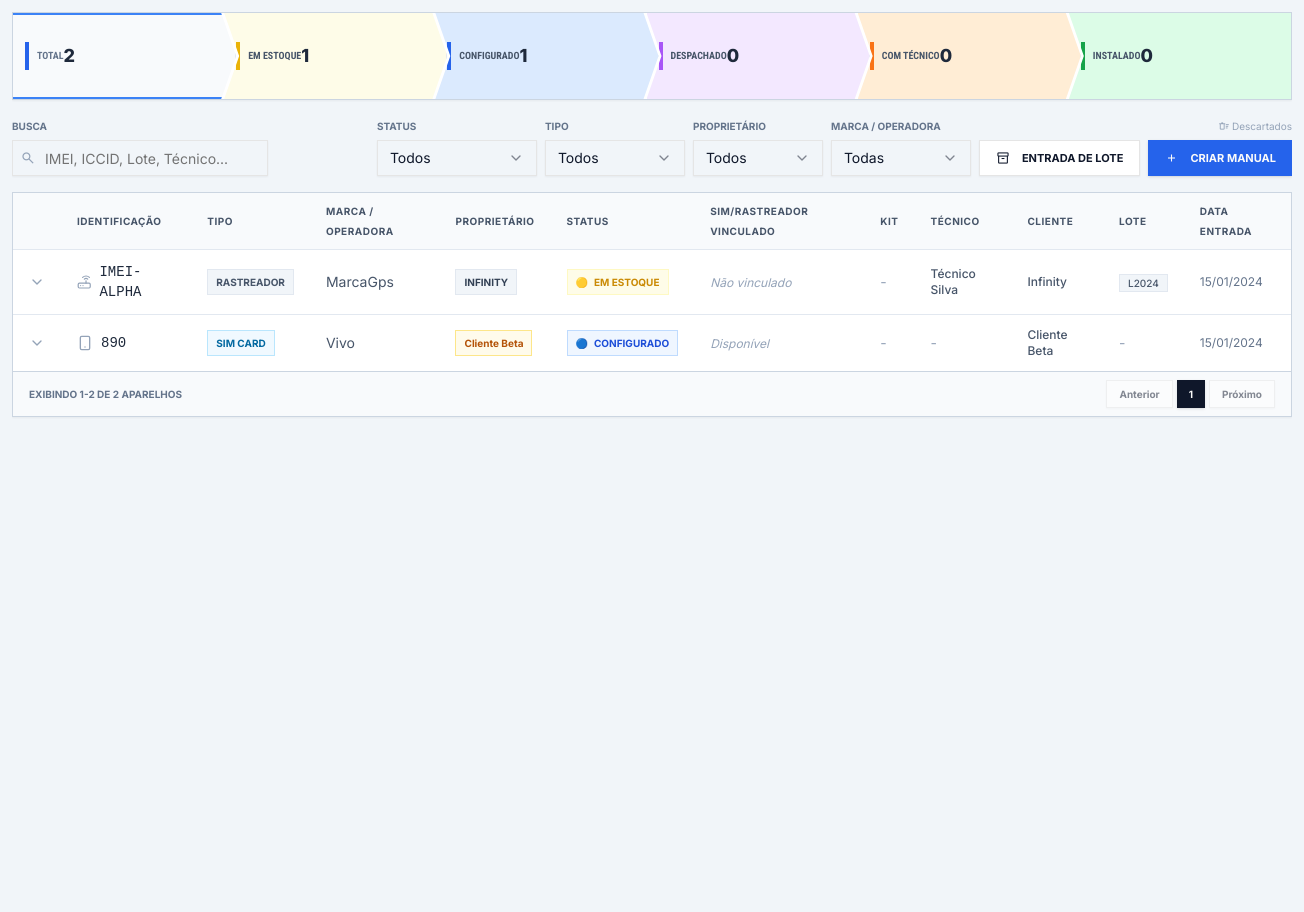
Scenario: AparelhosPage (fluxo integrado) › carrega pipeline, busca filtra por técnico e expande linha
Check: the element with test id "aparelhos-status-pipeline" is shown, box [12,12,1292,100]
Check: the element with test id "aparelhos-toolbar" is shown, box [12,116,1292,176]
Type "Silva" into the field with test id "aparelhos-busca-input" at {"x": 140, "y": 158}, box [12,140,268,176]
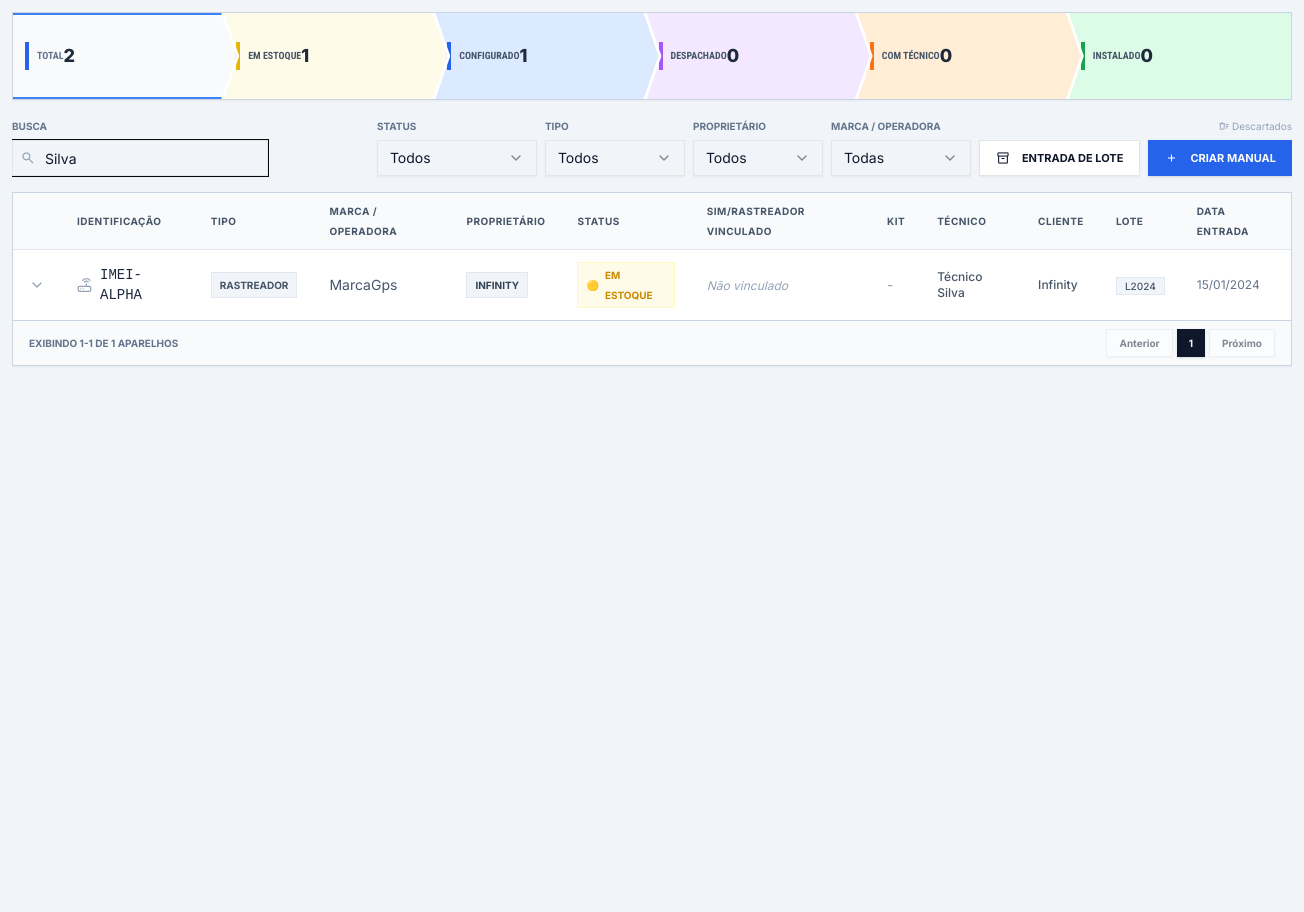
Check: the text "IMEI-ALPHA" is shown, box [100,267,142,303]
Check: the text "890" is gone
Click the row with test id "aparelho-row-1" at {"x": 652, "y": 285}, box [13,250,1291,320]
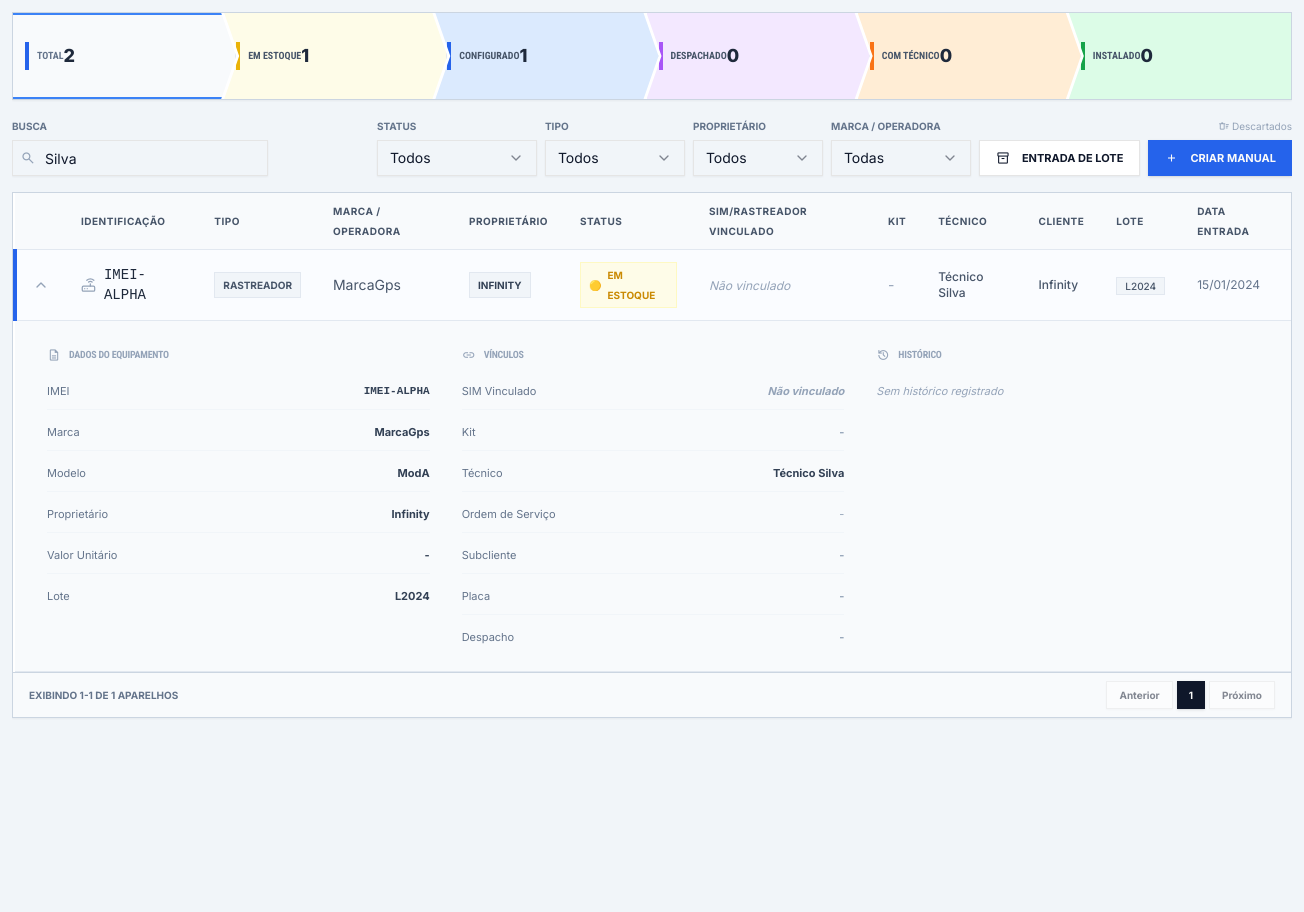
Check: the element with test id "aparelho-expanded-1" is shown, box [15,321,1291,671]
